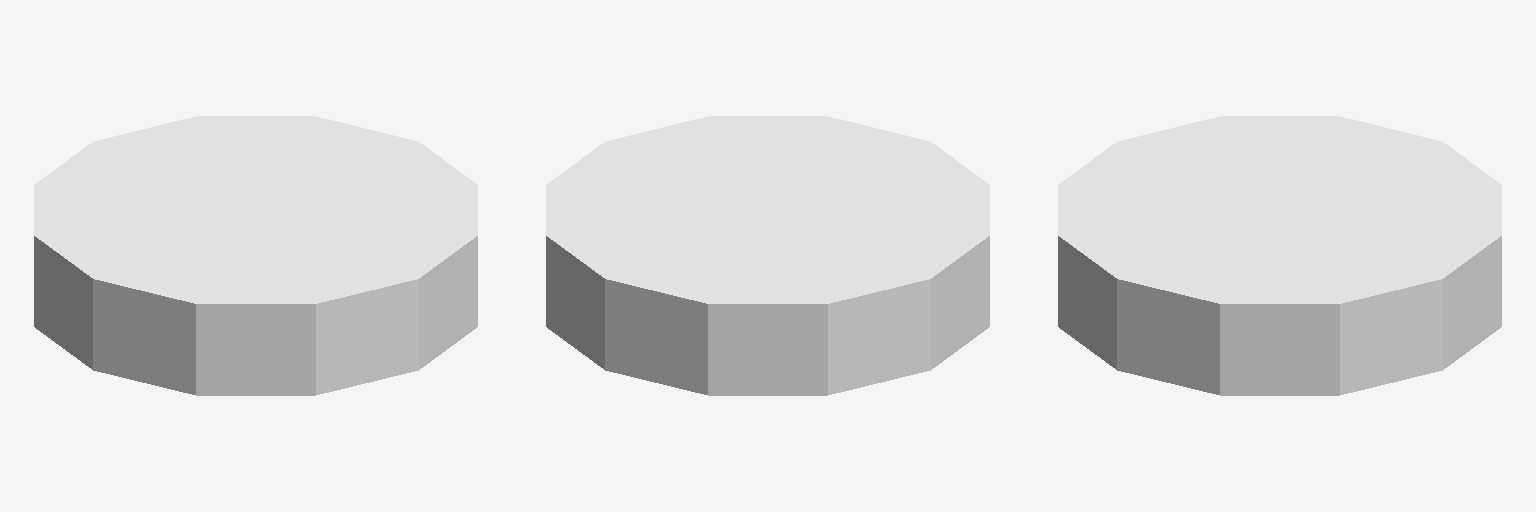
The model's file is millstone_top.obj.
3 views of the same model, side by side, from view 1: azimuth 30°, elevation 25°; view 2: azimuth 150°, elevation 25°; view 3: azimuth 270°, elevation 25° (orthographic).
Parts seen in each view (by area): view 1: cylinder; view 2: cylinder; view 3: cylinder.
Part boxes in pixels (x1,y1,x2,y2): cylinder: (34, 116, 477, 395); cylinder: (546, 116, 989, 395); cylinder: (1058, 116, 1501, 395).
Size of the model in its own units: 1.38 by 0.3125 by 1.38.